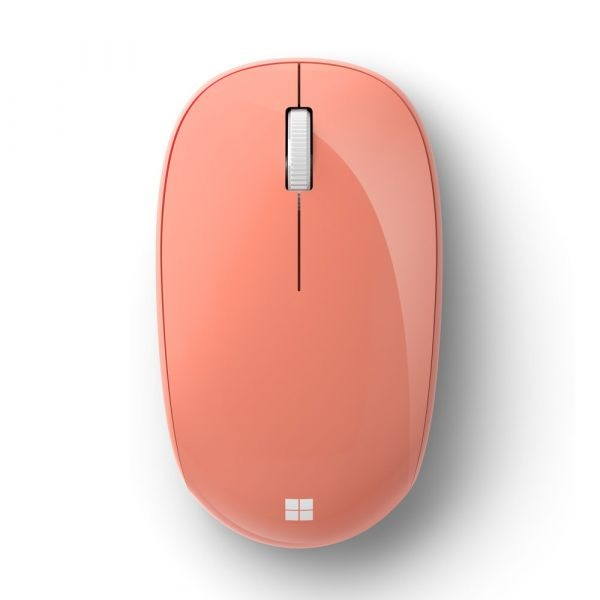mouse: (148, 64, 444, 546)
